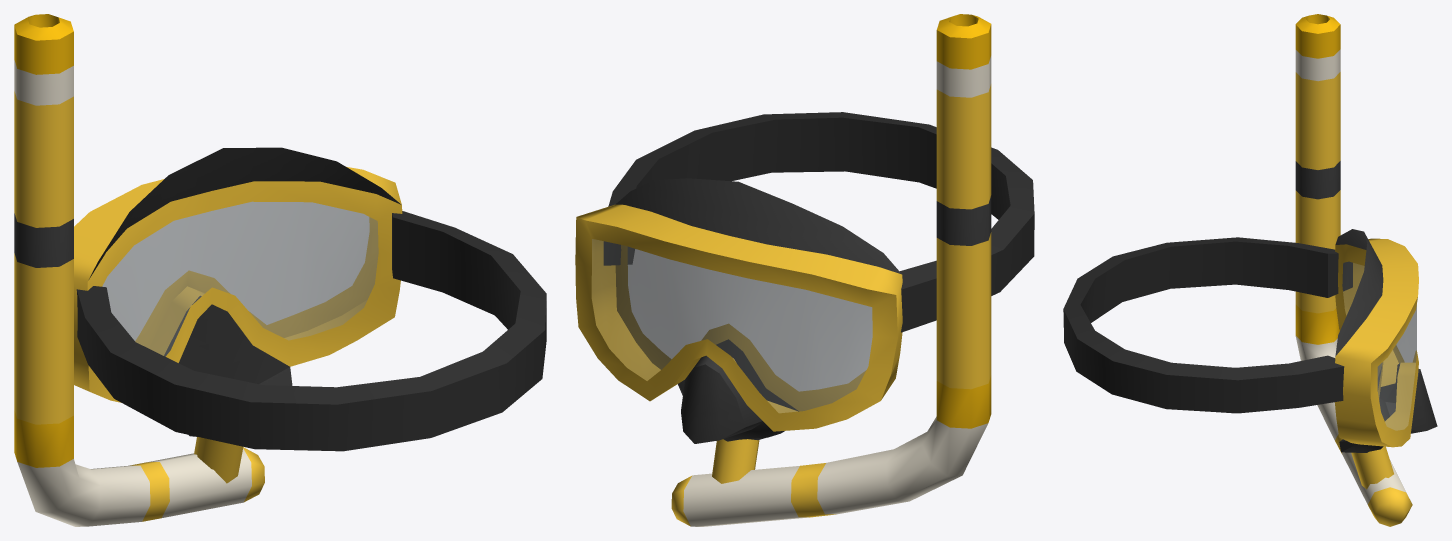
File: Eyewear_9.fbx
The picture shows the model from 3 angles, left to right: view 1: azimuth 30°, elevation 25°; view 2: azimuth 150°, elevation 25°; view 3: azimuth 270°, elevation 25°; orthographic projection. The views are drawn at different scales.
Visible parts, largest first — view 1: Eyewear_9; view 2: Eyewear_9; view 3: Eyewear_9.
Boxes of the visible parts, x1,y1,x2,y2 form: Eyewear_9: (14,14,546,526); Eyewear_9: (575,14,1034,526); Eyewear_9: (1063,14,1437,526).
Size of the model in its own units: 81.14 by 101 by 81.94.
